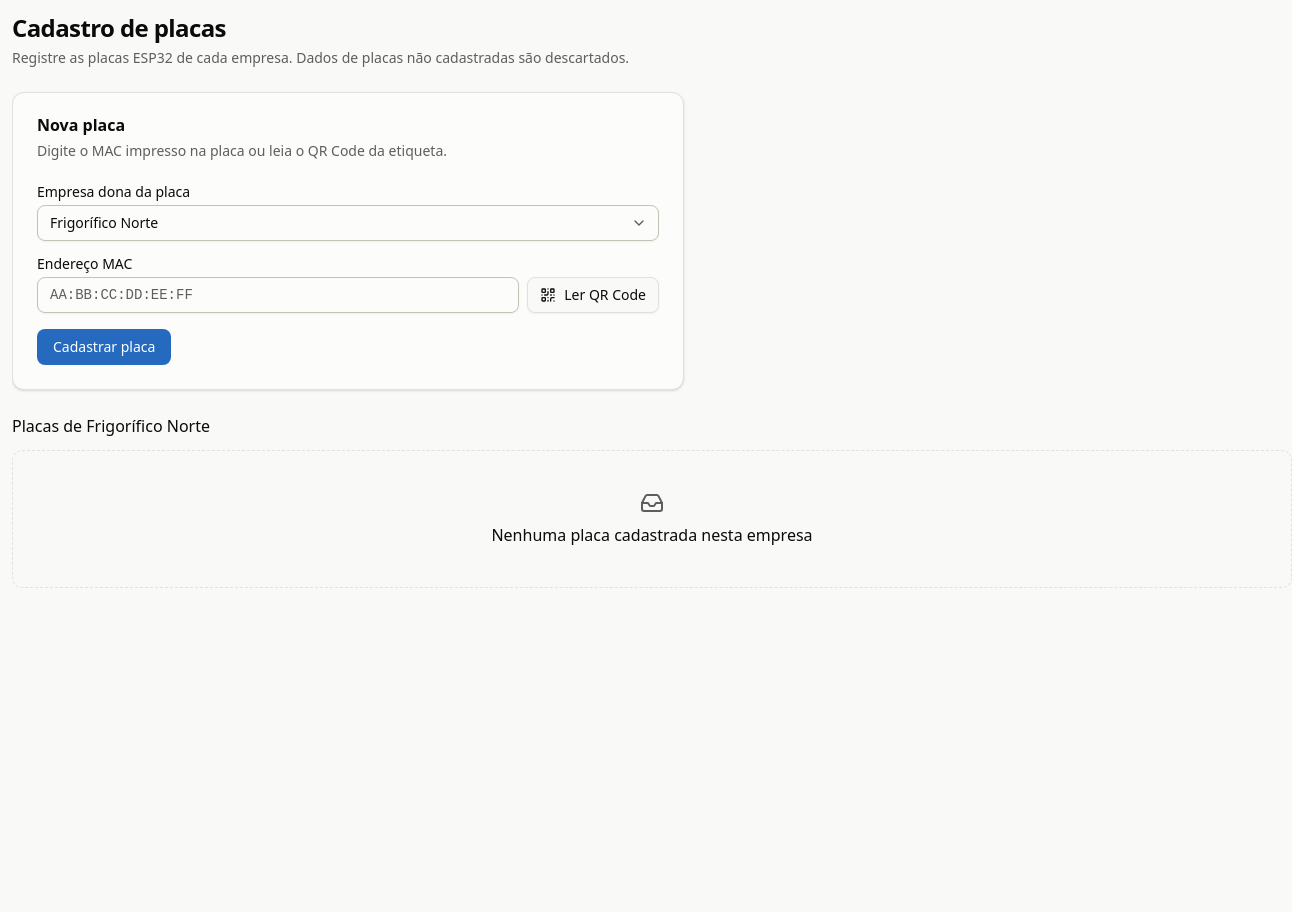
Test: RegisterDevicePage › mostra o erro da API, como MAC duplicado
Type "AA:BB:CC:DD:EE:01" into the field labelled "Endereço MAC".
click(278, 295); type("AA:BB:CC:DD:EE:01")  # box [37,277,519,313]
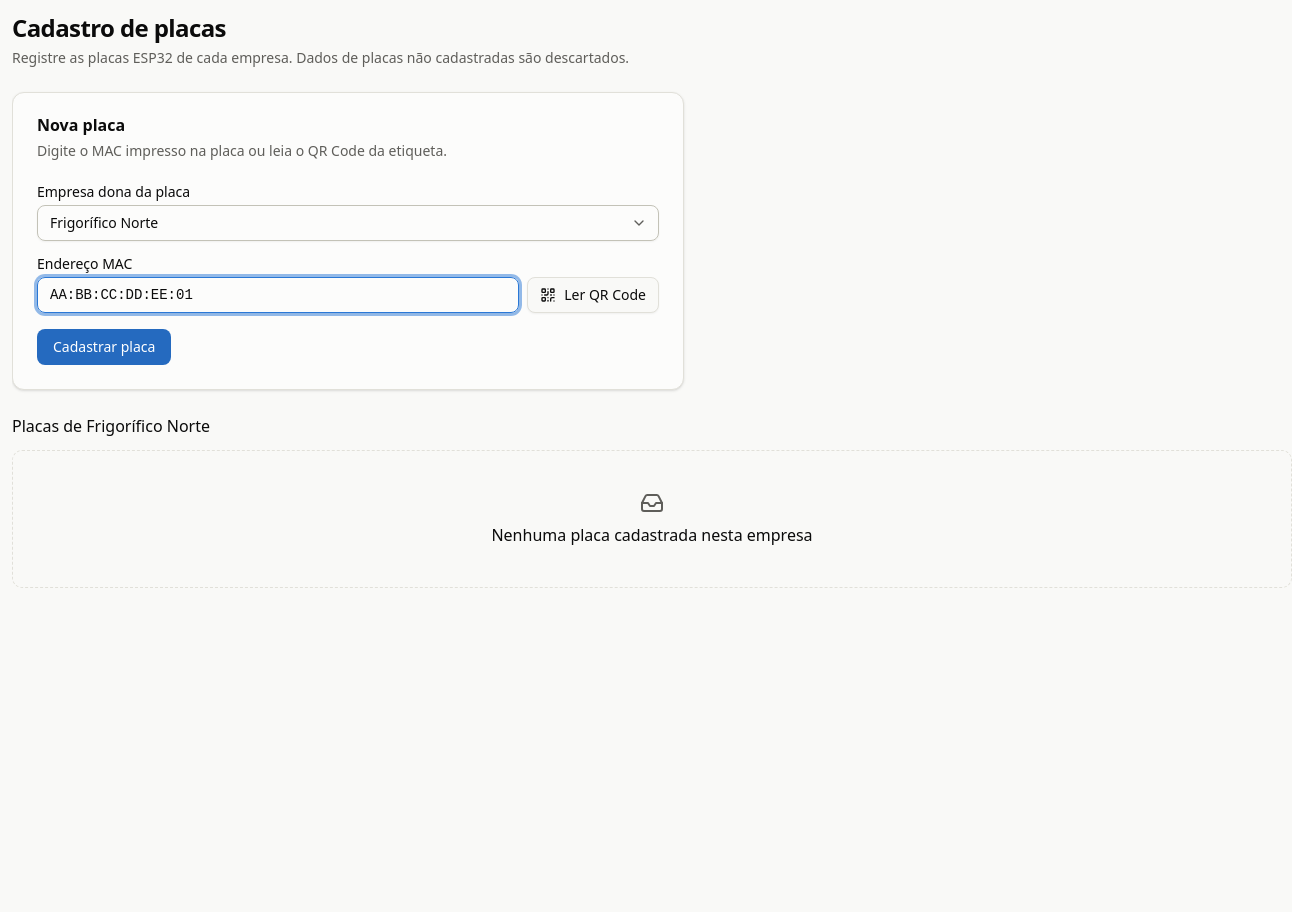
Click the button "Cadastrar placa".
click(104, 347)  # box [37,329,171,365]
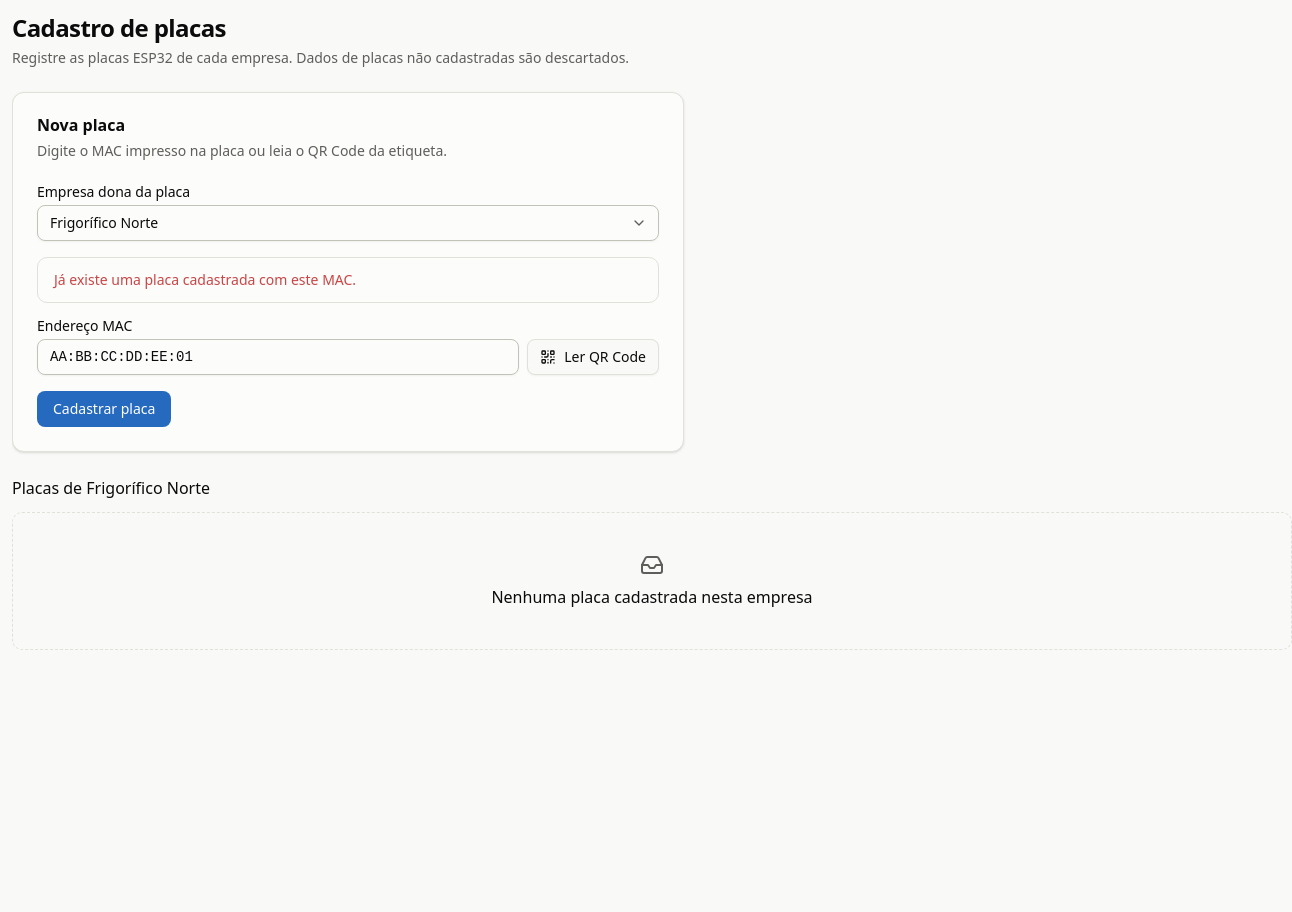
Check: the text "Já existe uma placa cadastrada com este MAC." is shown, box [54,270,356,289]
